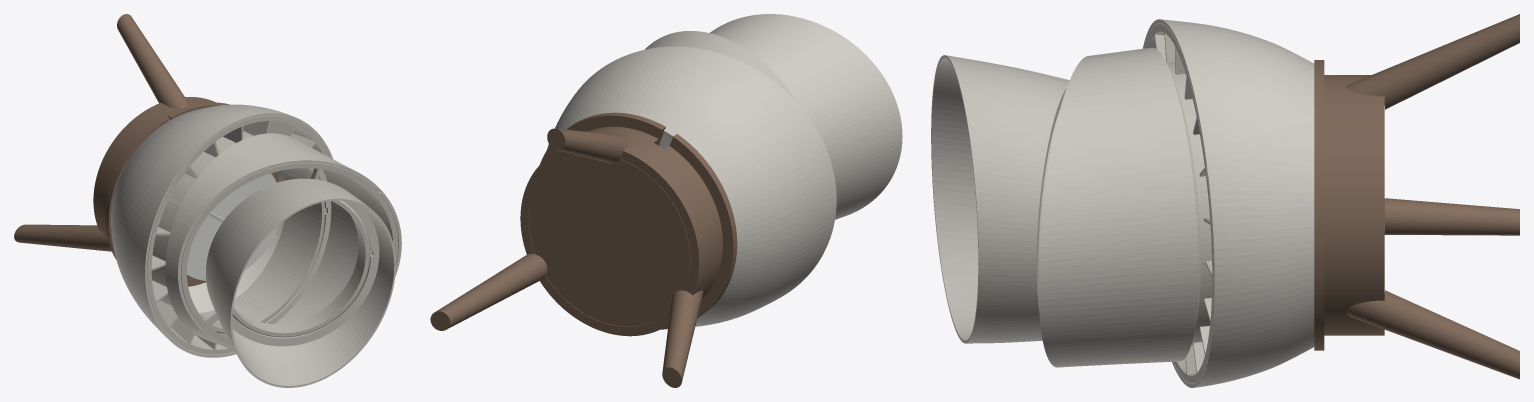
The model's file is boucle_stack_lamp_assembly.glb.
3 views of the same model, side by side, from view 1: azimuth 30°, elevation 25°; view 2: azimuth 150°, elevation 25°; view 3: azimuth 270°, elevation 25° (orthographic). The views are drawn at different scales.
Visible parts, largest first — view 1: Shell C, Shell B, Halo ring A–B, Shell A, Leg frame, Halo ring B–C, Diffuser baffle; view 2: Shell A, Leg frame, LED cradle, Shell C, Shell B; view 3: Shell B, Shell A, Leg frame, Shell C, Halo ring A–B.
Part boxes in pixels (left/top/right/bottom): Shell C: left=206, top=178, right=395, bottom=387; Shell B: left=165, top=133, right=401, bottom=350; Halo ring A–B: left=147, top=115, right=329, bottom=354; Shell A: left=111, top=104, right=332, bottom=357; Leg frame: left=14, top=14, right=278, bottom=286; Halo ring B–C: left=181, top=163, right=398, bottom=346; Diffuser baffle: left=187, top=173, right=277, bottom=280; Shell A: left=547, top=46, right=836, bottom=326; Leg frame: left=430, top=112, right=737, bottom=387; LED cradle: left=529, top=140, right=690, bottom=326; Shell C: left=710, top=14, right=902, bottom=219; Shell B: left=644, top=31, right=795, bottom=100; Shell B: left=1038, top=47, right=1198, bottom=367; Shell A: left=1143, top=19, right=1314, bottom=387; Leg frame: left=1314, top=14, right=1519, bottom=379; Shell C: left=931, top=55, right=1069, bottom=343; Halo ring A–B: left=1144, top=24, right=1213, bottom=383.
Size of the model in its own units: 148 by 157 by 235.
